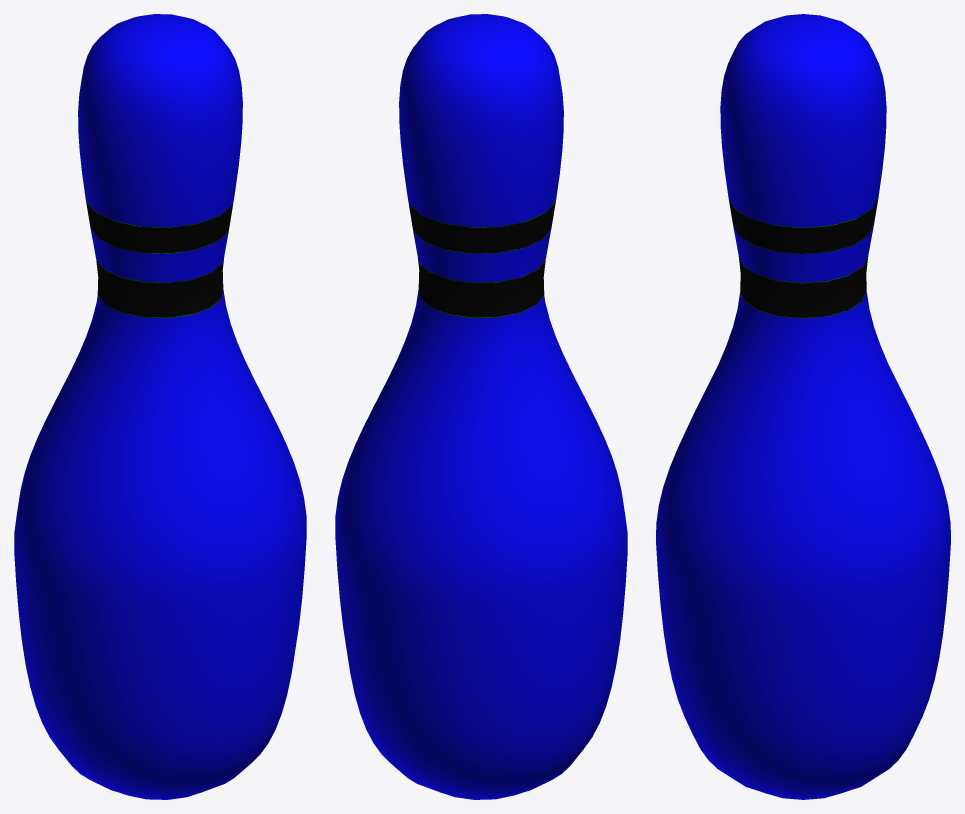
The picture shows the model from 3 angles, left to right: view 1: azimuth 30°, elevation 25°; view 2: azimuth 150°, elevation 25°; view 3: azimuth 270°, elevation 25°; orthographic projection.
Visible parts, largest first — view 1: Bowling Pin; view 2: Bowling Pin; view 3: Bowling Pin.
Part boxes in pixels (<box>): Bowling Pin: <box>14,14,306,799</box>; Bowling Pin: <box>335,14,627,799</box>; Bowling Pin: <box>656,14,950,799</box>.
Bounding box in the file's own units: 0.1688 × 0.4763 × 0.1688.
1 material, 1 textured.
